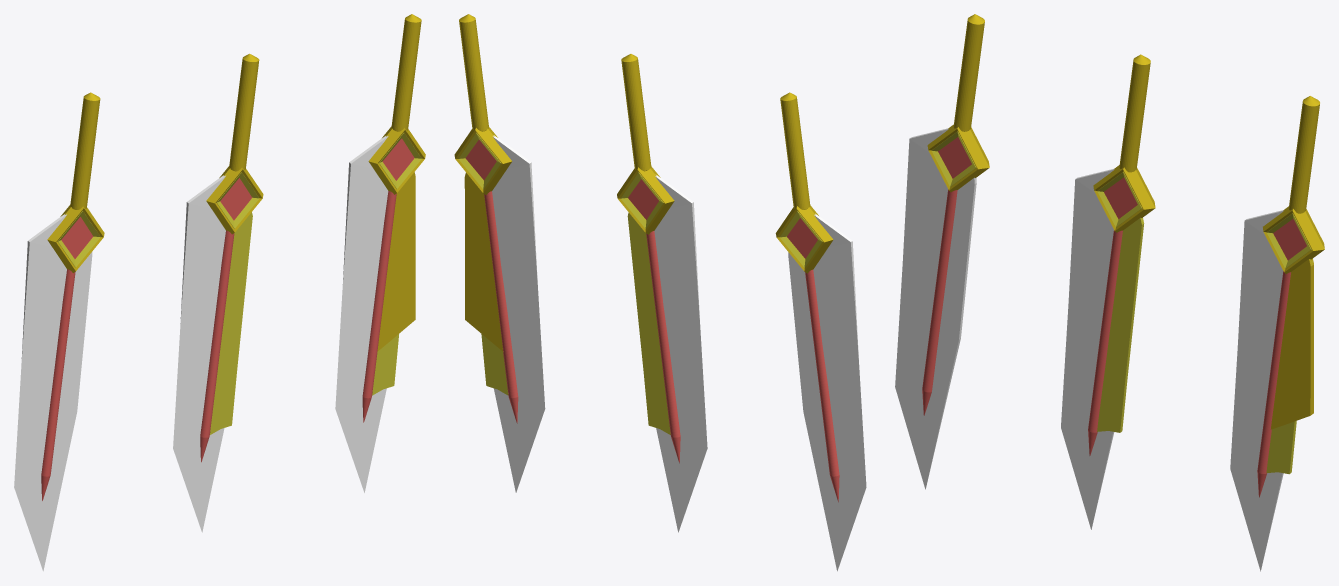
Rendered from Dagger.fbx.
3 views of the same model, side by side, from view 1: azimuth 30°, elevation 25°; view 2: azimuth 150°, elevation 25°; view 3: azimuth 330°, elevation 25° (orthographic). The views are drawn at different scales.
Visible parts, largest first — view 1: Cube.000, Cube.004, Cube.002, Cube.008, Cylinder.000, Cylinder.001, Cylinder.002, Cube.001, Torus.004, Torus.002, Torus.001, Cube.007 (+6 smaller); view 2: Cube.000, Cube.004, Cube.002, Cube.008, Cylinder.001, Cylinder.000, Cylinder.002, Cube.001, Torus.001, Torus.004, Torus.002, Cube.007 (+6 smaller); view 3: Cube.000, Cube.004, Cube.002, Cube.008, Cube.001, Cylinder.001, Cylinder.000, Cylinder.002, Torus.002, Torus.001, Torus.004, Cube.007 (+6 smaller).
Boxes of the visible parts, <box> form: Cube.000: <box>14,214,92,571</box>; Cube.004: <box>173,175,225,532</box>; Cube.002: <box>335,136,388,492</box>; Cube.008: <box>377,172,415,351</box>; Cylinder.000: <box>200,53,259,462</box>; Cylinder.001: <box>41,92,100,500</box>; Cylinder.002: <box>362,14,421,422</box>; Cube.001: <box>210,212,252,434</box>; Torus.004: <box>368,126,425,194</box>; Torus.002: <box>47,205,104,272</box>; Torus.001: <box>206,166,263,234</box>; Cube.007: <box>372,334,398,395</box>; Cube.000: <box>788,213,866,571</box>; Cube.004: <box>654,175,707,532</box>; Cube.002: <box>492,135,545,492</box>; Cube.008: <box>464,173,503,351</box>; Cylinder.001: <box>780,92,839,502</box>; Cylinder.000: <box>621,54,680,463</box>; Cylinder.002: <box>459,14,518,423</box>; Cube.001: <box>627,212,670,434</box>; Torus.001: <box>617,166,674,234</box>; Torus.004: <box>454,127,512,194</box>; Torus.002: <box>775,205,833,273</box>; Cube.007: <box>481,334,508,395</box>; Cube.000: <box>895,128,976,489</box>; Cube.004: <box>1061,169,1114,529</box>; Cube.002: <box>1230,210,1283,571</box>; Cube.008: <box>1270,258,1313,429</box>; Cube.001: <box>1097,218,1144,432</box>; Cylinder.001: <box>922,14,984,415</box>; Cylinder.000: <box>1088,54,1150,455</box>; Cylinder.002: <box>1257,96,1319,497</box>; Torus.002: <box>927,124,989,192</box>; Torus.001: <box>1093,165,1155,232</box>; Torus.004: <box>1263,206,1324,273</box>; Cube.007: <box>1266,259,1313,474</box>.
Bounding box in the file's own units: 266 × 289 × 11.61.
